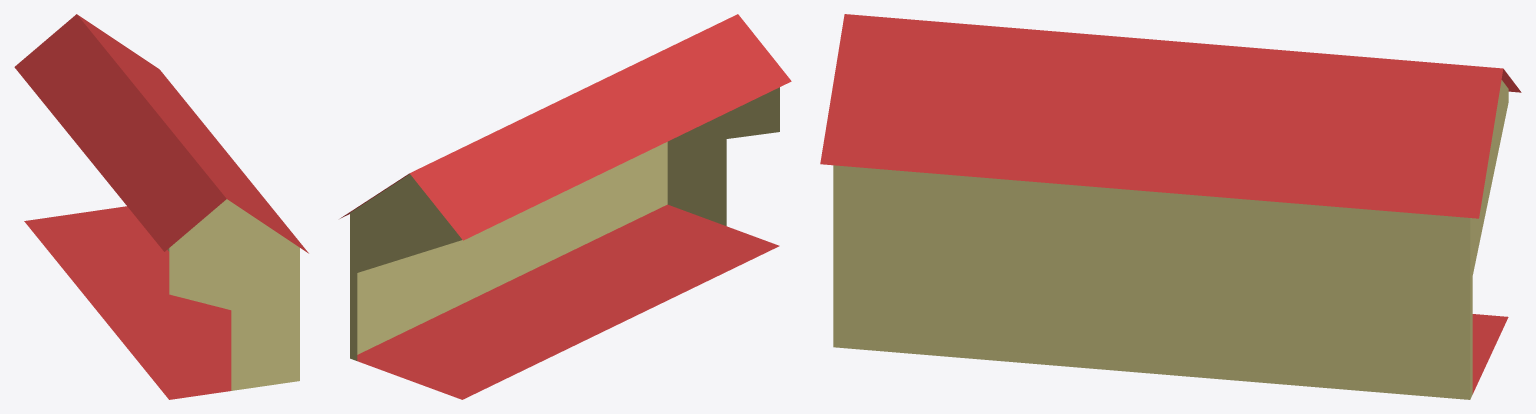
The picture shows the model from 3 angles, left to right: view 1: azimuth 30°, elevation 25°; view 2: azimuth 150°, elevation 25°; view 3: azimuth 270°, elevation 25°; orthographic projection. The views are drawn at different scales.
Bounding box in the file's own units: 15.54 × 31.37 × 14.03.
